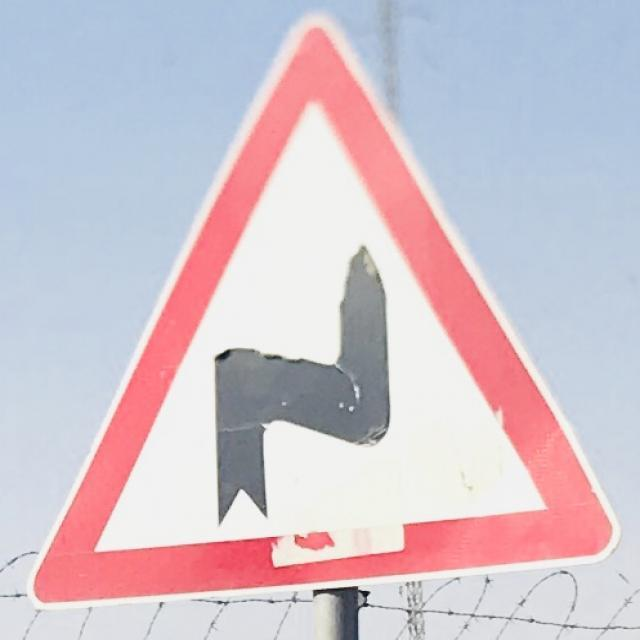right reverse bend: (39, 16, 619, 612)
